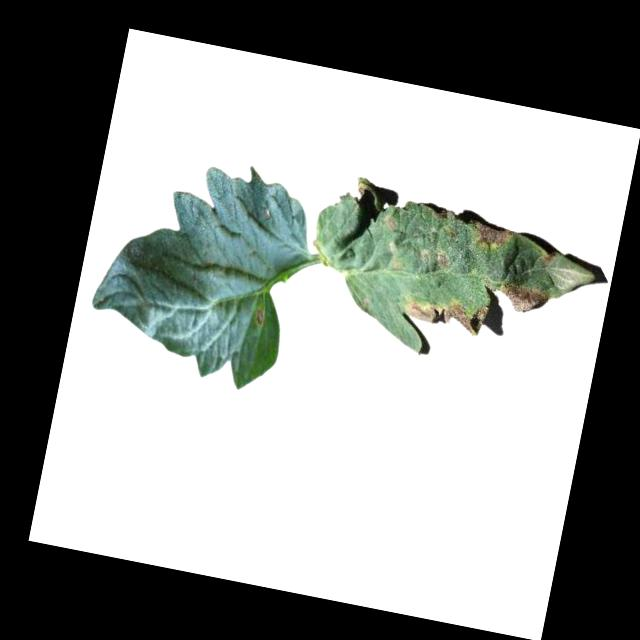Early_blight: (402, 293, 489, 339), (494, 278, 551, 317), (466, 218, 514, 253), (436, 250, 453, 269), (253, 307, 268, 327), (541, 249, 555, 266)
